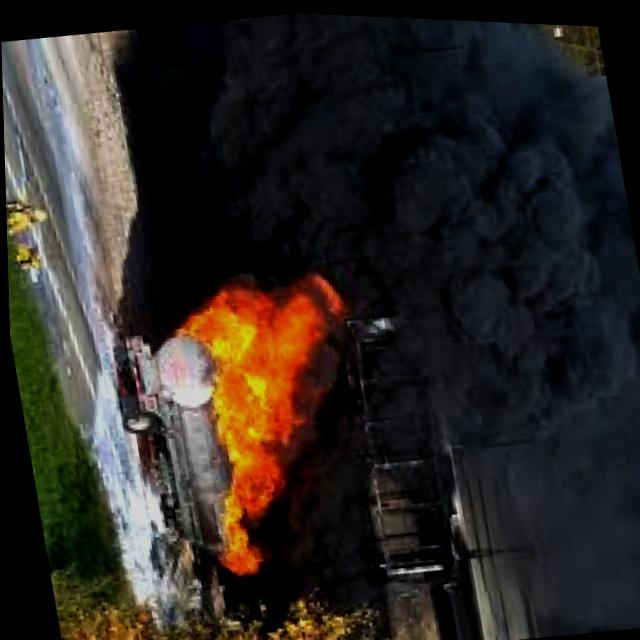helmet: (131, 263, 355, 602)
no_helmet: (174, 6, 640, 640)
